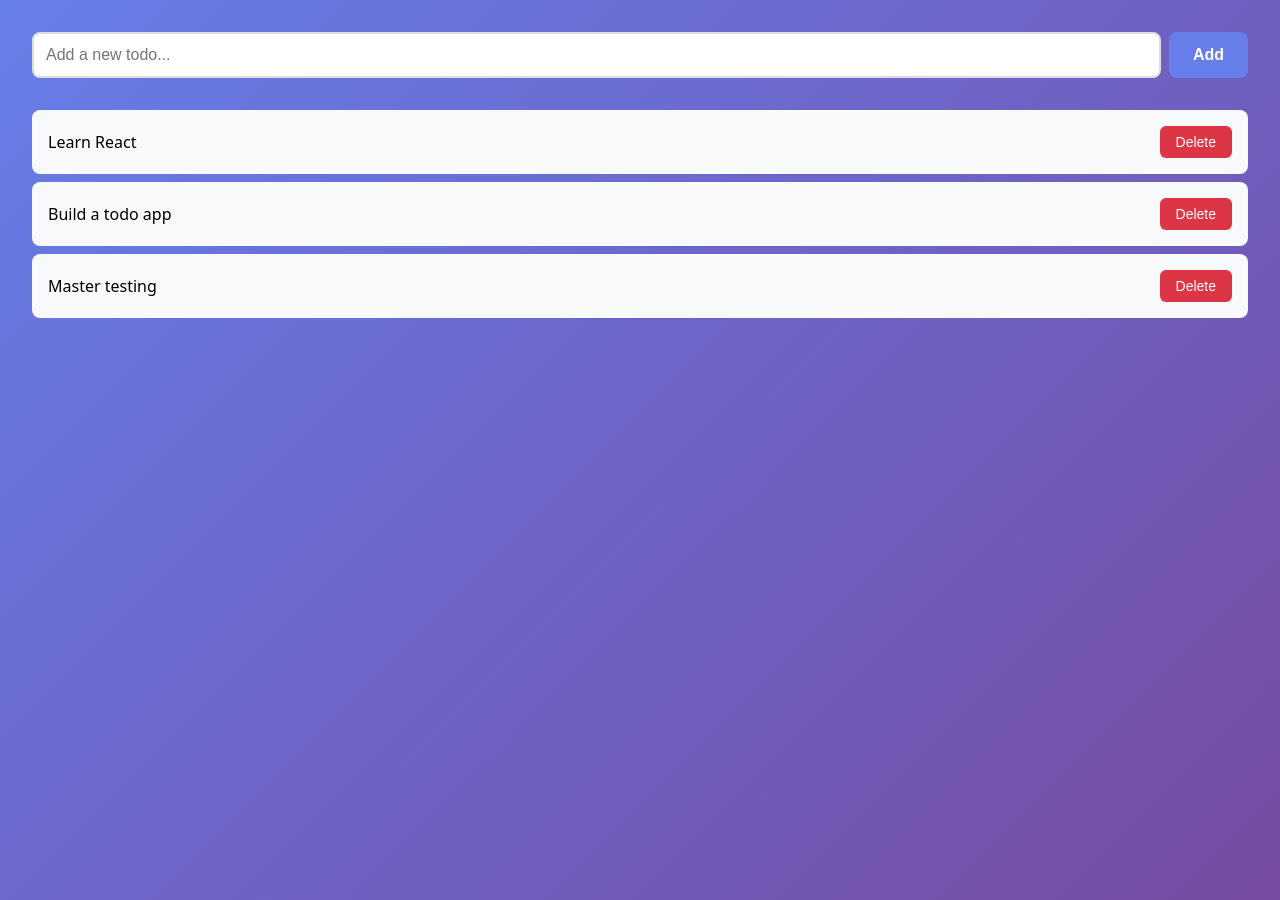
Scenario: TodoList Component › shows empty state when no todos exist
The image size is (1280, 900).
Click the button "Delete" in the row of "Learn React": (1196, 142) [1160,126,1232,158]
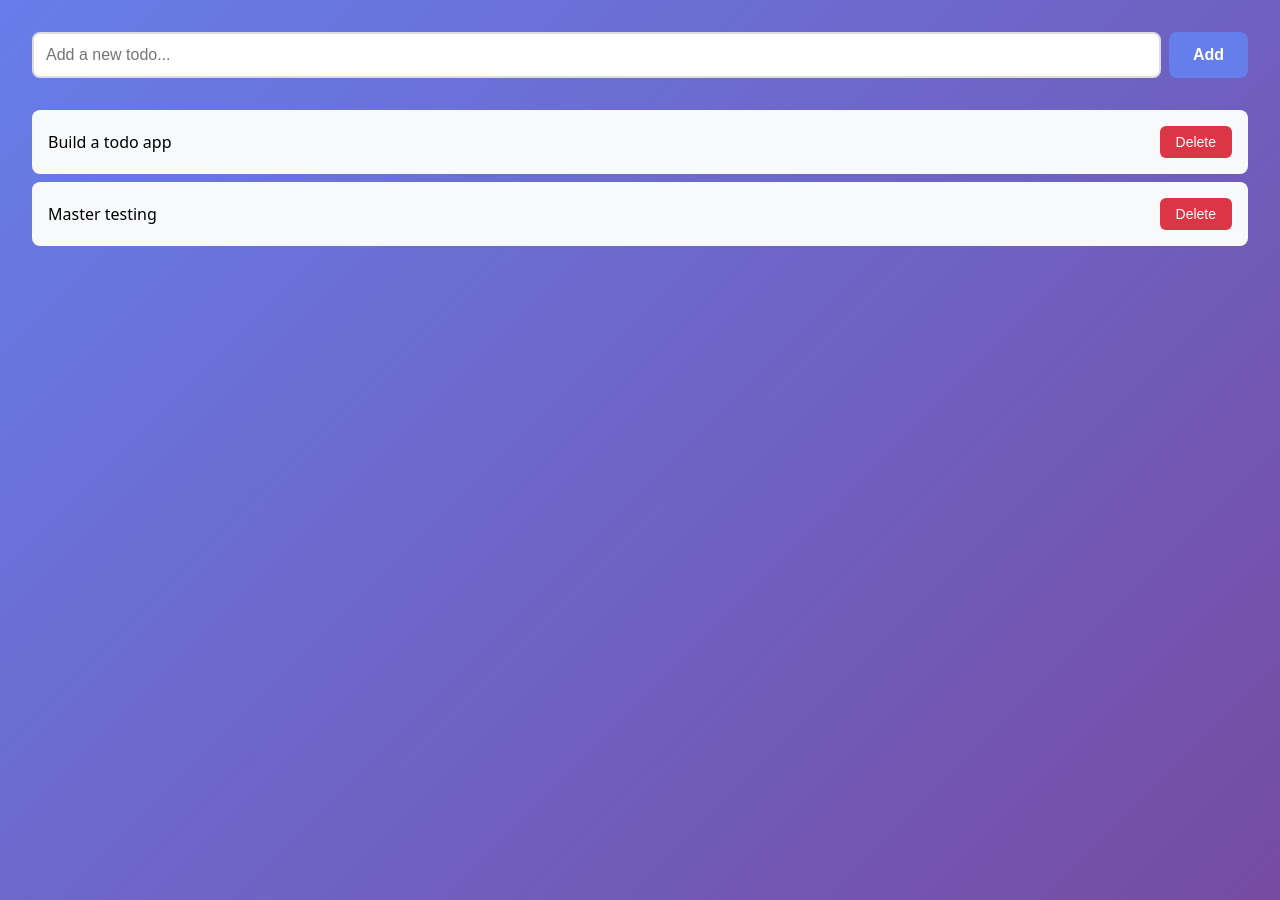
Click the button "Delete" in the row of "Build a todo app": (1196, 142) [1160,126,1232,158]
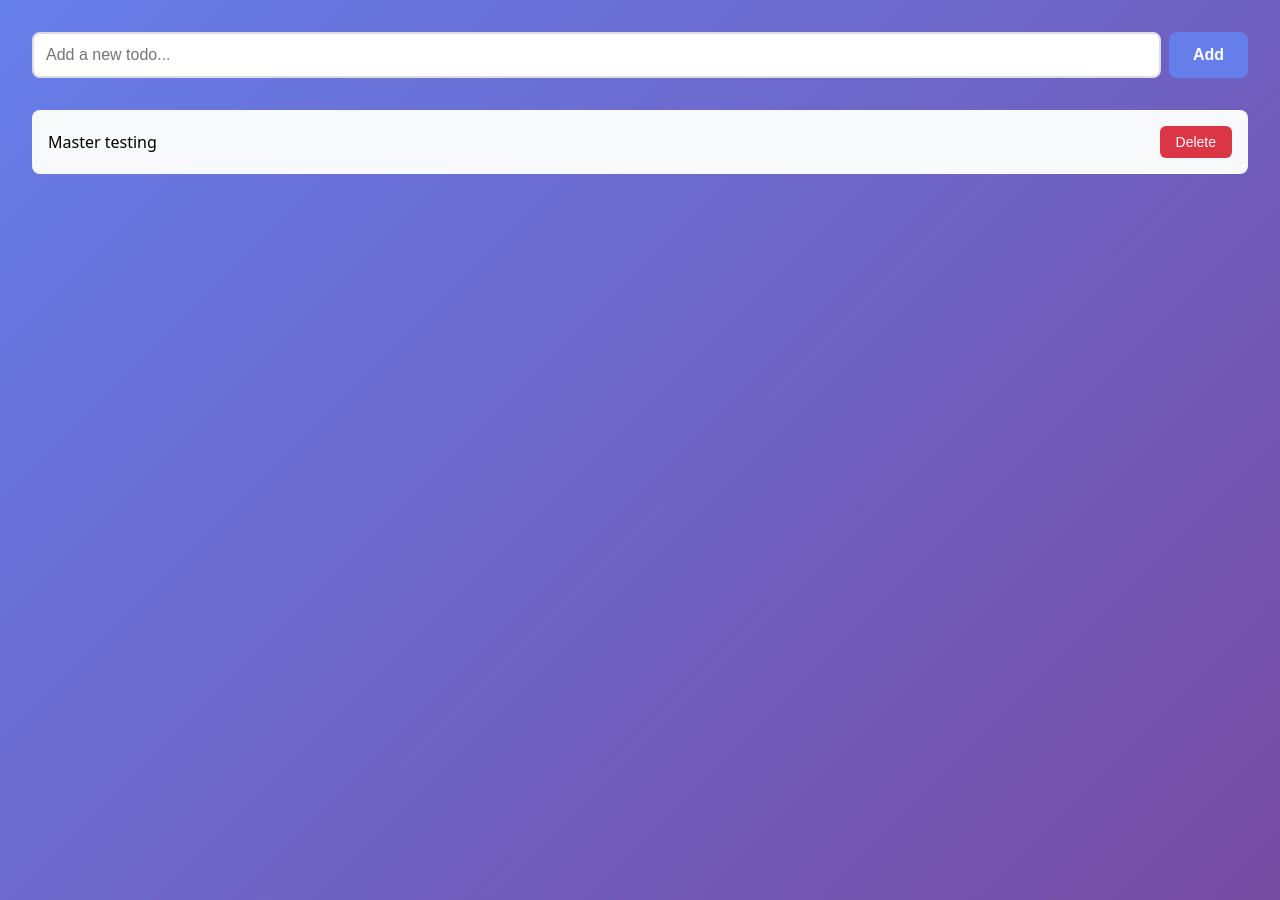
Click the button "Delete": (1196, 142) [1160,126,1232,158]
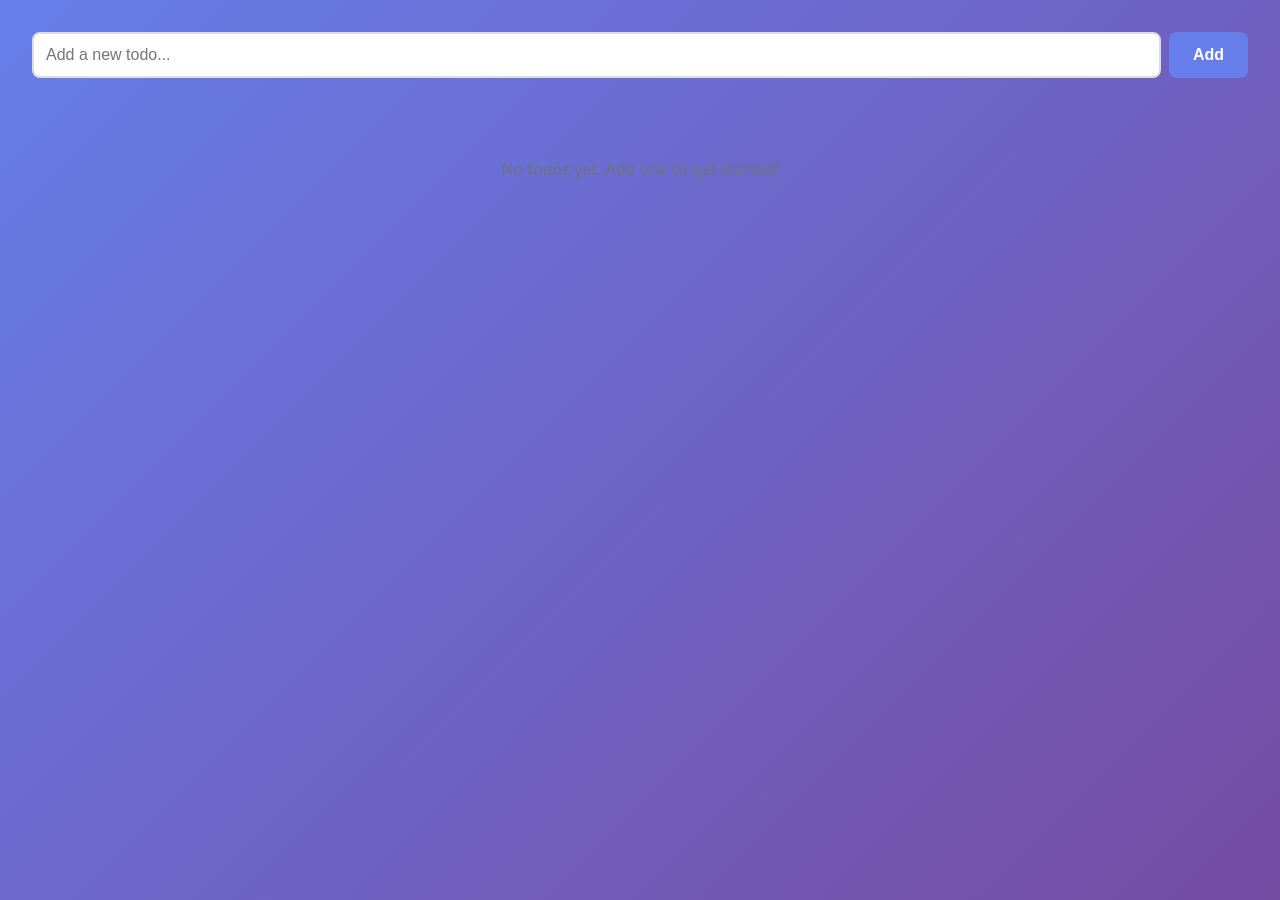
Check: the text "No todos yet. Add one to get started!" is shown, box [501,158,779,180]
